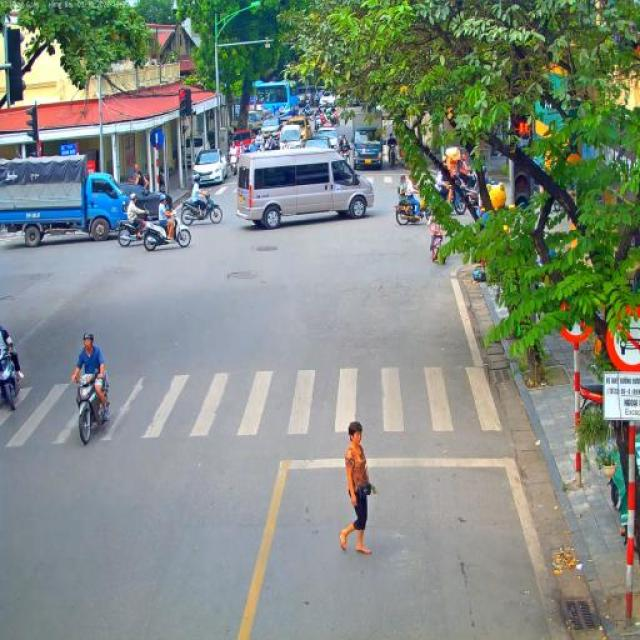bus: (236, 147, 375, 229), (248, 80, 300, 118)
car: (192, 148, 228, 188), (285, 116, 311, 144), (314, 126, 340, 154), (258, 117, 282, 145), (278, 124, 304, 148), (318, 90, 338, 112), (301, 137, 331, 149), (232, 130, 254, 146), (298, 90, 312, 110)
motorcycle: (71, 369, 111, 446), (142, 205, 192, 251), (178, 188, 223, 226), (0, 343, 22, 410), (116, 208, 150, 247), (394, 193, 431, 226), (442, 180, 468, 216), (459, 171, 478, 199), (340, 146, 352, 170), (386, 144, 398, 165), (229, 153, 239, 177), (330, 113, 340, 127), (314, 117, 321, 133), (326, 113, 334, 127)
truck: (0, 152, 150, 248), (348, 113, 384, 172), (246, 109, 262, 132)
